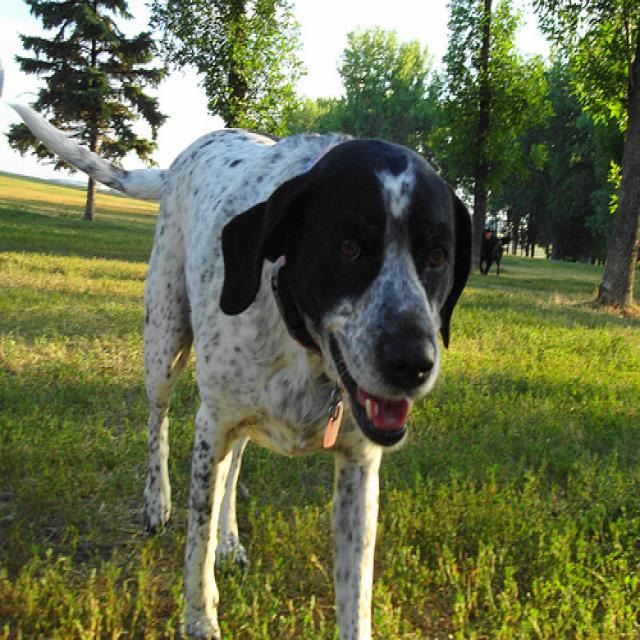dog-german_shorthaired: (13, 96, 475, 637)
